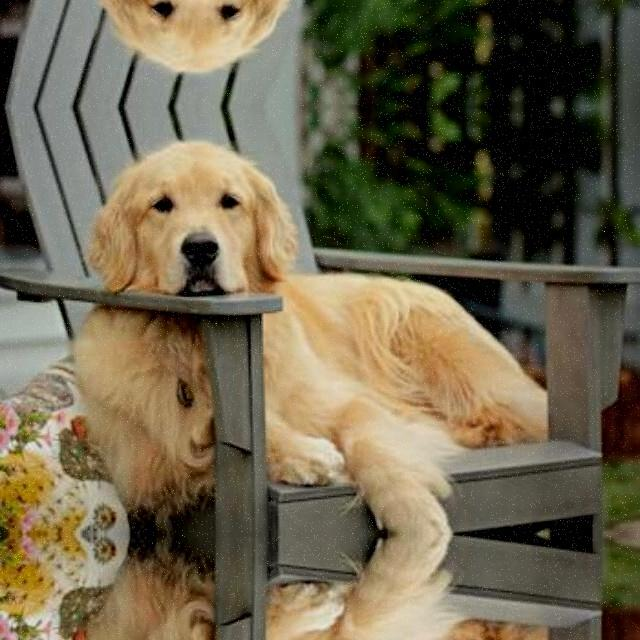dog: (110, 137, 538, 533), (109, 535, 538, 640), (109, 0, 538, 75)
